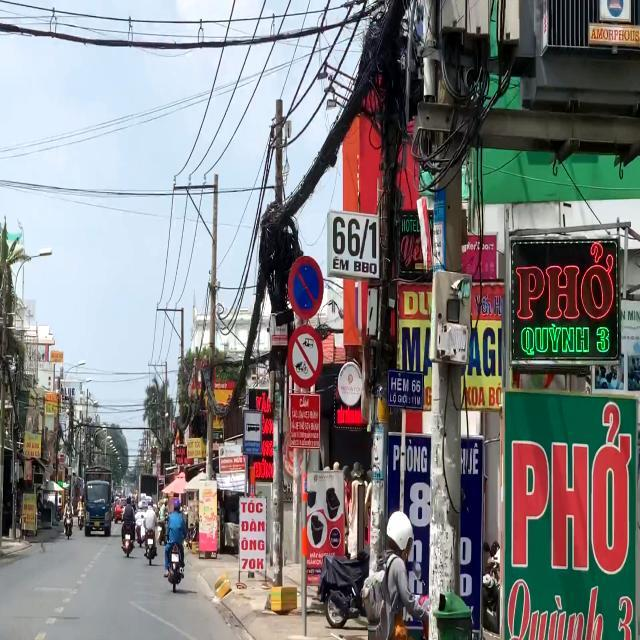P-131a: (288, 255, 324, 315)
